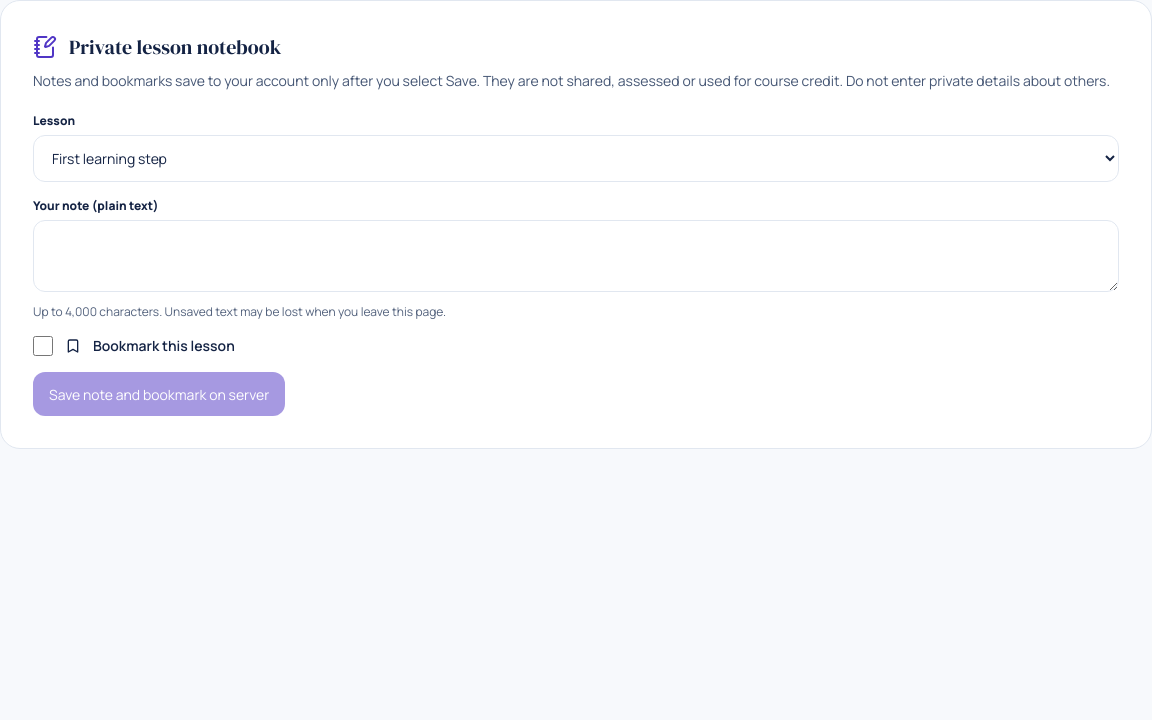
Test: private, server-saved lesson notebook › does not announce success when network outcome is unknown and cannot confirm the server
In the text box labelled "Your note (plain text)": [576, 256] box x1=33 y1=220 x2=1119 y2=292, type "Kept when connection returned"
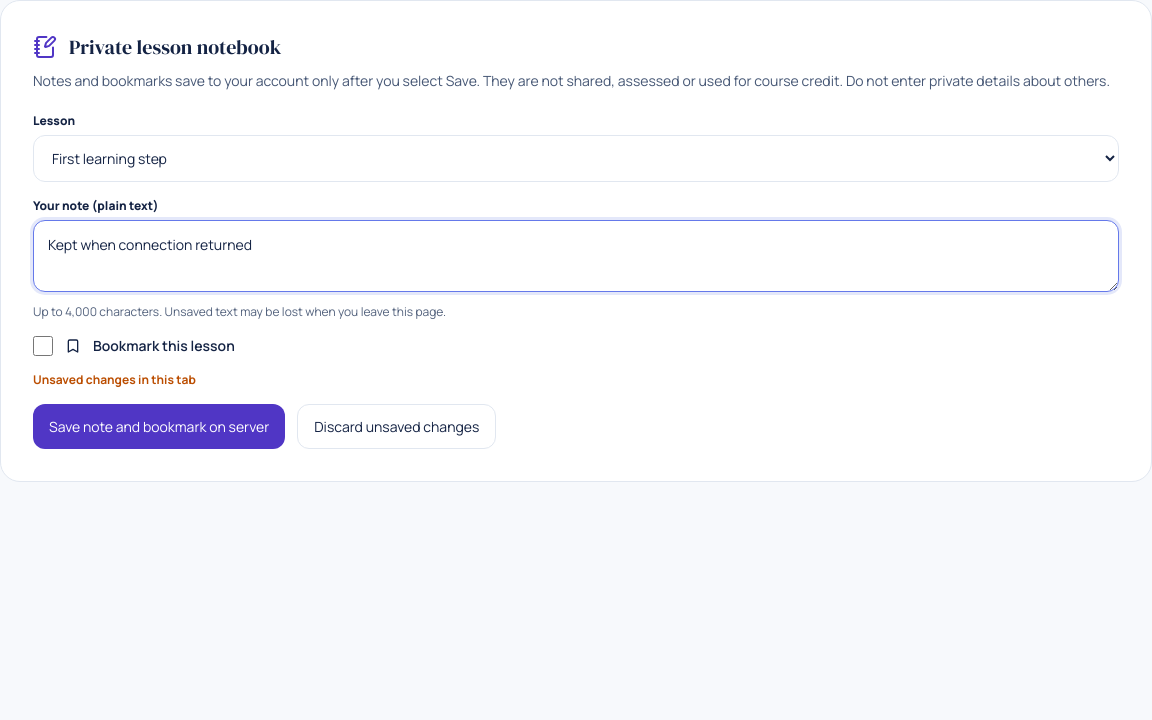
Click the button "Save note and bookmark on server": [159, 427] box x1=33 y1=404 x2=285 y2=449
(page scrolled)
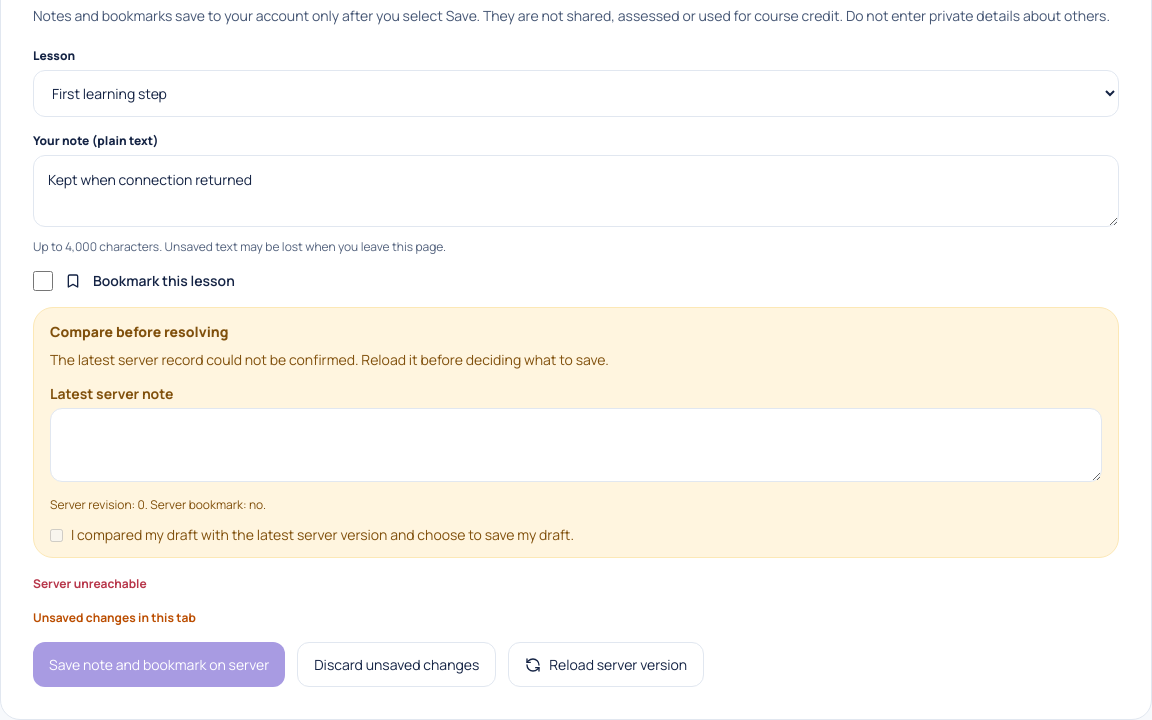
Expected: the text "Compare before resolving" is shown, x1=50 y1=322 x2=228 y2=341
Expected: the button "Save note and bookmark on server" is disabled, x1=33 y1=642 x2=285 y2=687
Click the button "Reload server version": [606, 665] box x1=508 y1=642 x2=704 y2=687
(page scrolled)
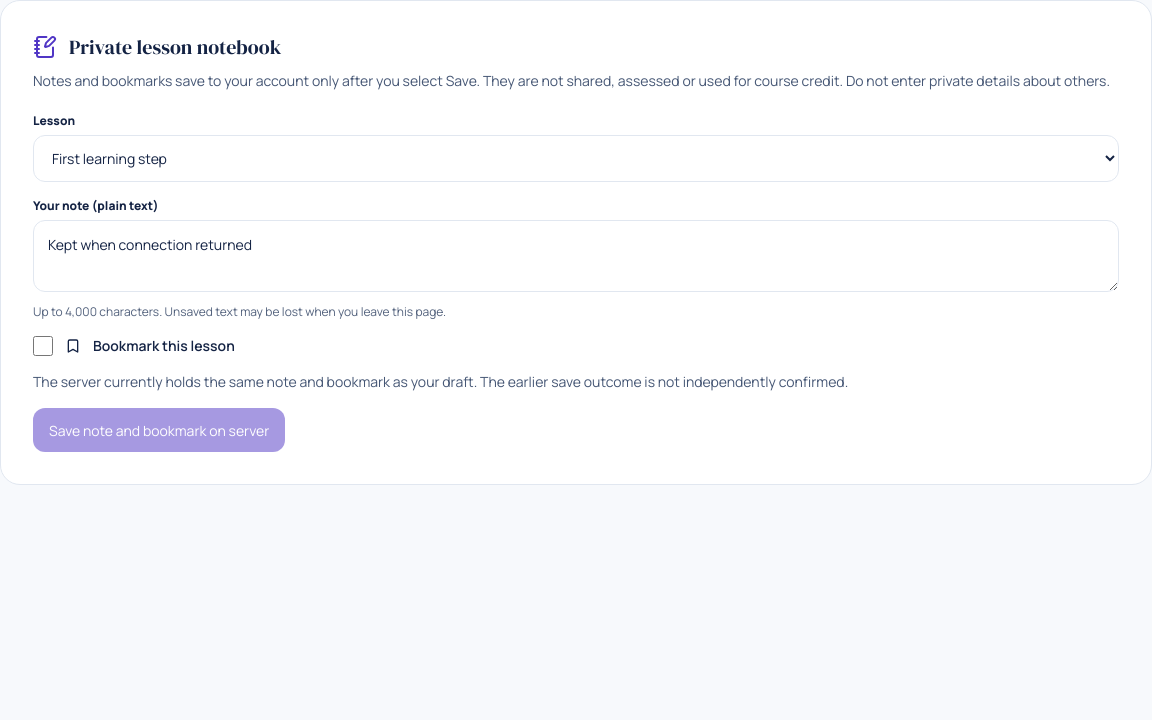
Expected: the text "server currently holds the same note" is shown, x1=33 y1=372 x2=848 y2=391
